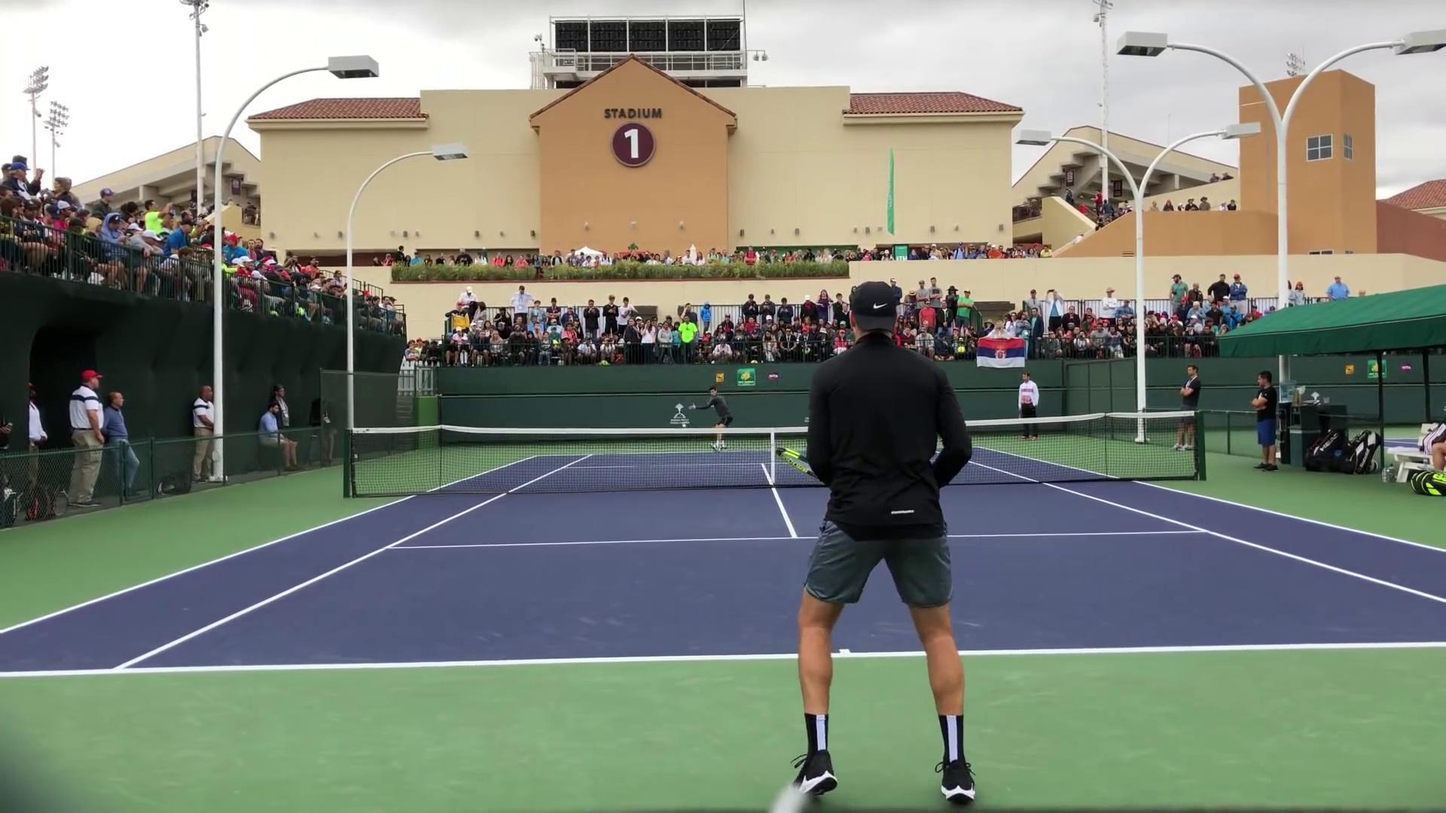ball: (678, 420, 689, 428)
